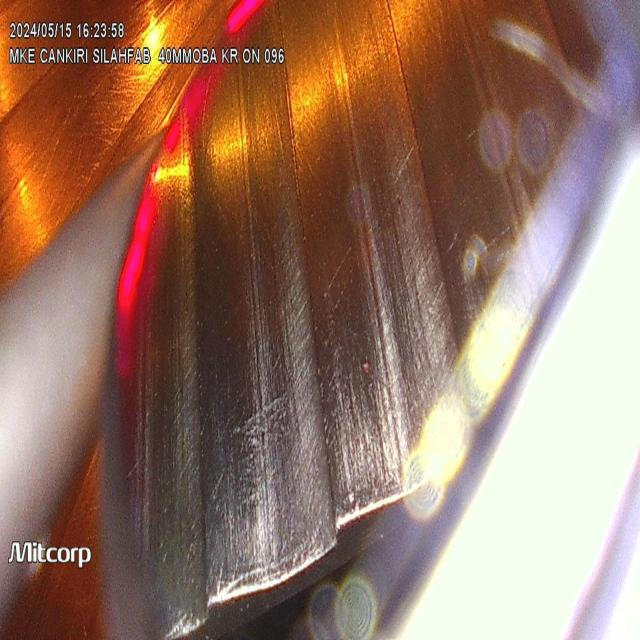hata_8.1: (171, 164, 506, 439)
